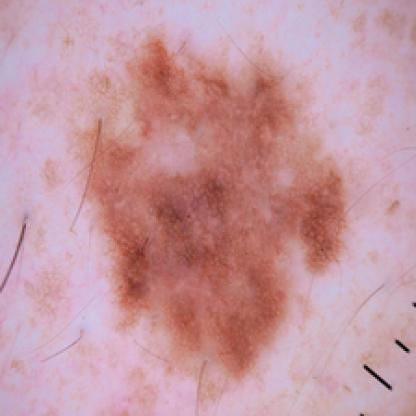Skin_Cancer-Malignant: (88, 37, 346, 377)
